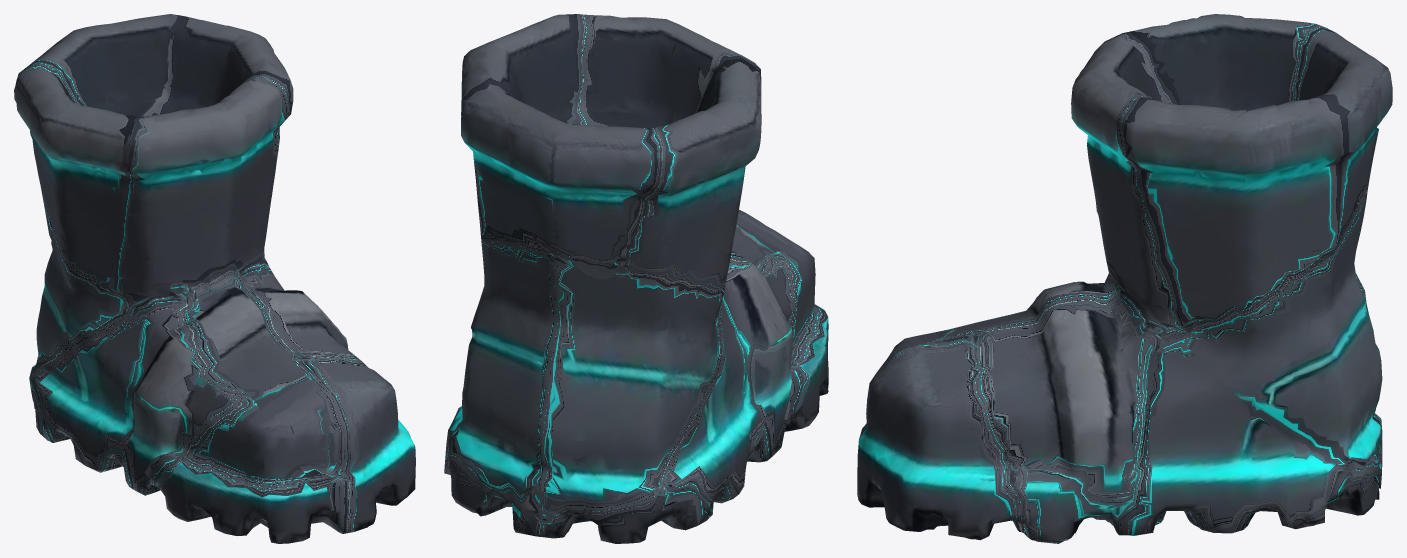
The model's file is vanguard_boot_A.glb.
The picture shows the model from 3 angles, left to right: view 1: azimuth 30°, elevation 25°; view 2: azimuth 150°, elevation 25°; view 3: azimuth 270°, elevation 25°; orthographic projection. The views are drawn at different scales.
Bounding box in the file's own units: 0.19 × 0.2576 × 0.2933.
Materials: 1 (1 with a texture image).
